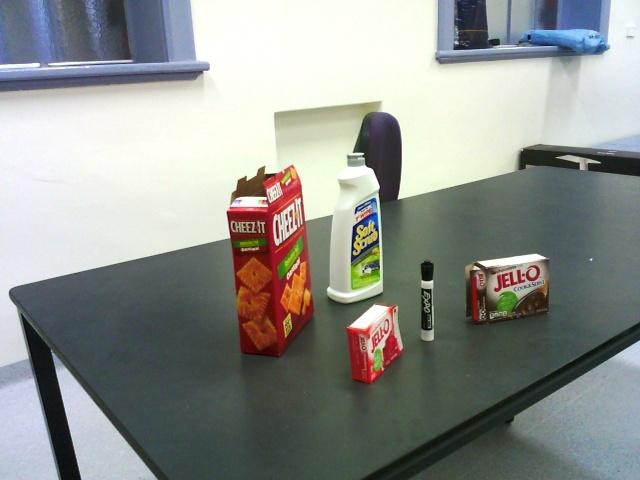003_cracker_box: (227, 167, 313, 354)
008_pudding_box: (463, 256, 551, 324)
009_gelatin_box: (342, 300, 403, 384)
021_bleach_cleanser: (326, 152, 388, 302)
040_large_marker: (420, 259, 437, 339)
